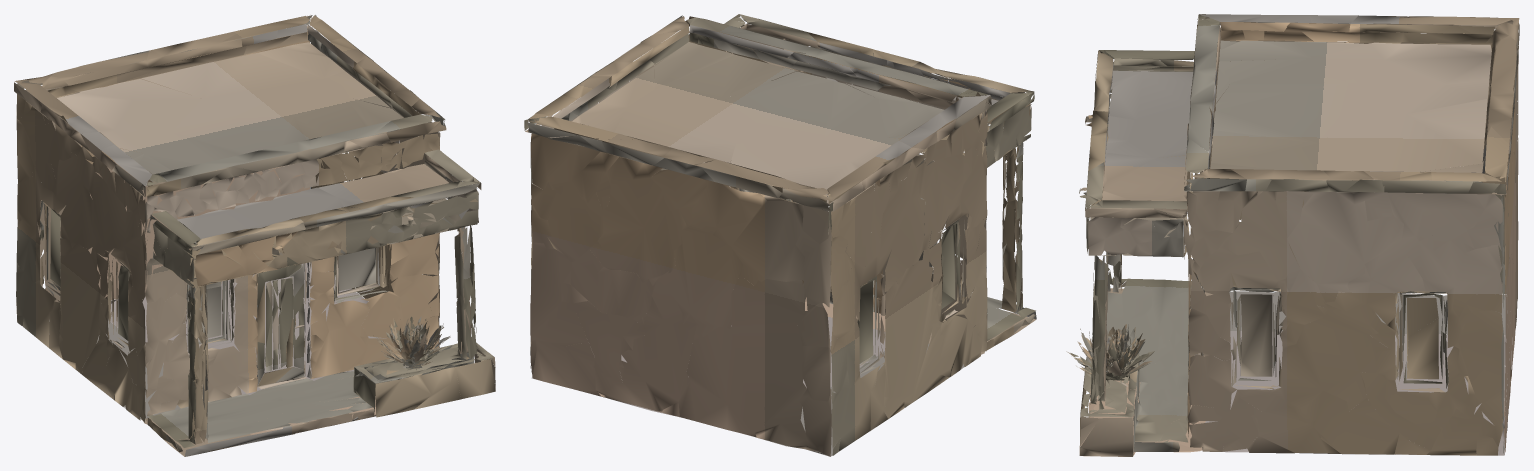
File: casita.glb
3 views of the same model, side by side, from view 1: azimuth 30°, elevation 25°; view 2: azimuth 150°, elevation 25°; view 3: azimuth 270°, elevation 25° (orthographic). The views are drawn at different scales.
Visible parts, largest first — view 1: LO.001; view 2: LO.001; view 3: LO.001.
Part boxes in pixels (x1,y1,x2,y2): LO.001: (14, 15, 495, 456); LO.001: (524, 14, 1036, 456); LO.001: (1066, 14, 1519, 456).
Bounding box in the file's own units: 1.72 × 1.3 × 1.92.
Materials: 1 (1 with a texture image).
